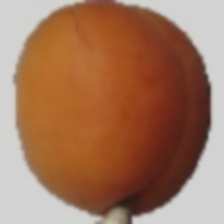apricot: (41, 9, 209, 183)
